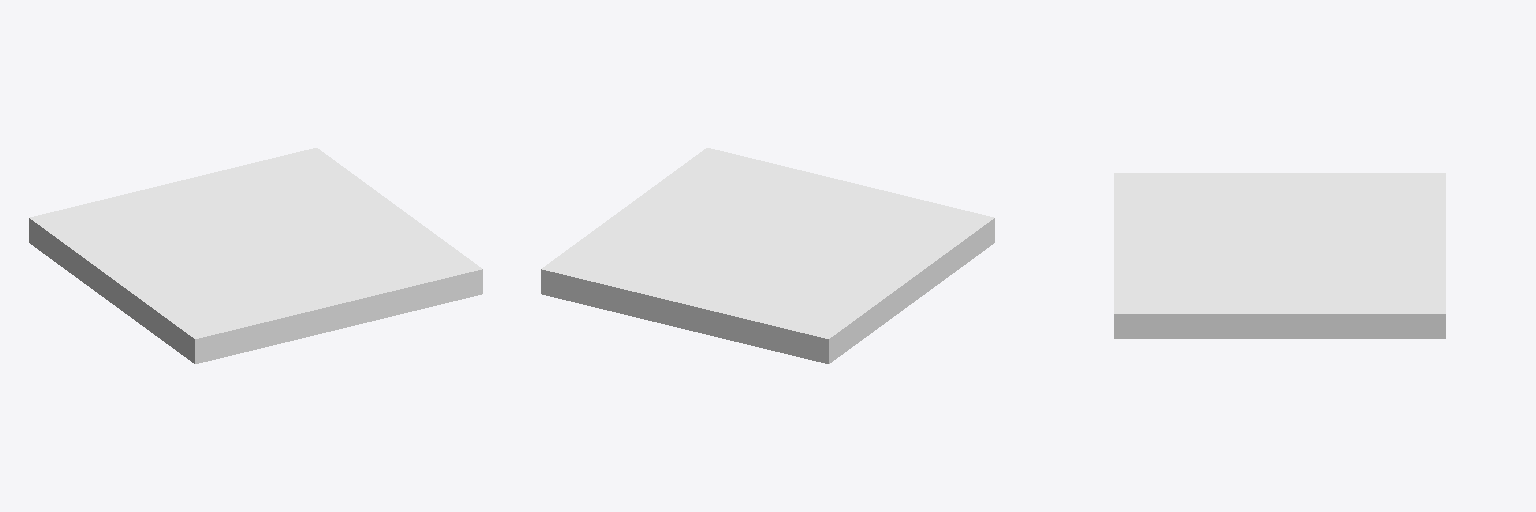
Rendered from order13.vox.obj.
3 views of the same model, side by side, from view 1: azimuth 30°, elevation 25°; view 2: azimuth 150°, elevation 25°; view 3: azimuth 270°, elevation 25° (orthographic).
Parts seen in each view (by area): view 1: object 1; view 2: object 1; view 3: object 1.
Part boxes in pixels (x1,y1,x2,y2): object 1: (29,148,482,363); object 1: (541,148,994,363); object 1: (1114,173,1445,338).
Bounding box in the file's own units: 24 × 2 × 24.